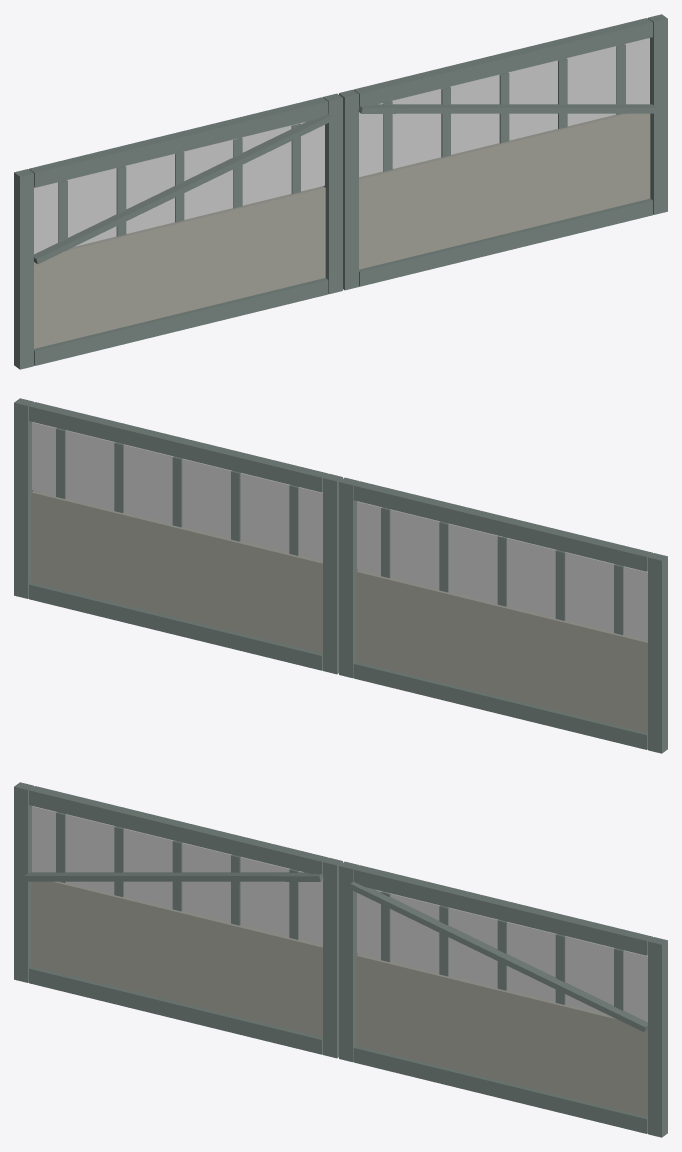
File: SM_PuertaViaDoble_v0_TuboChapa_e0_Sano_LOD1.fbx
3 views of the same model, one above another, from view 1: azimuth 30°, elevation 25°; view 2: azimuth 150°, elevation 25°; view 3: azimuth 330°, elevation 25° (orthographic).
Parts seen in each view (by area): view 1: Hoja_O, Hoja_E; view 2: Hoja_O, Hoja_E; view 3: Hoja_E, Hoja_O.
Part boxes in pixels (x1,y1,x2,y2): Hoja_O: (14,93,342,369); Hoja_E: (339,14,667,290); Hoja_O: (339,477,667,753); Hoja_E: (14,398,342,674); Hoja_E: (339,861,667,1137); Hoja_O: (14,782,342,1058).
Size of what is drawn, in the model's own units: 7.38 by 2.1 by 0.18.
